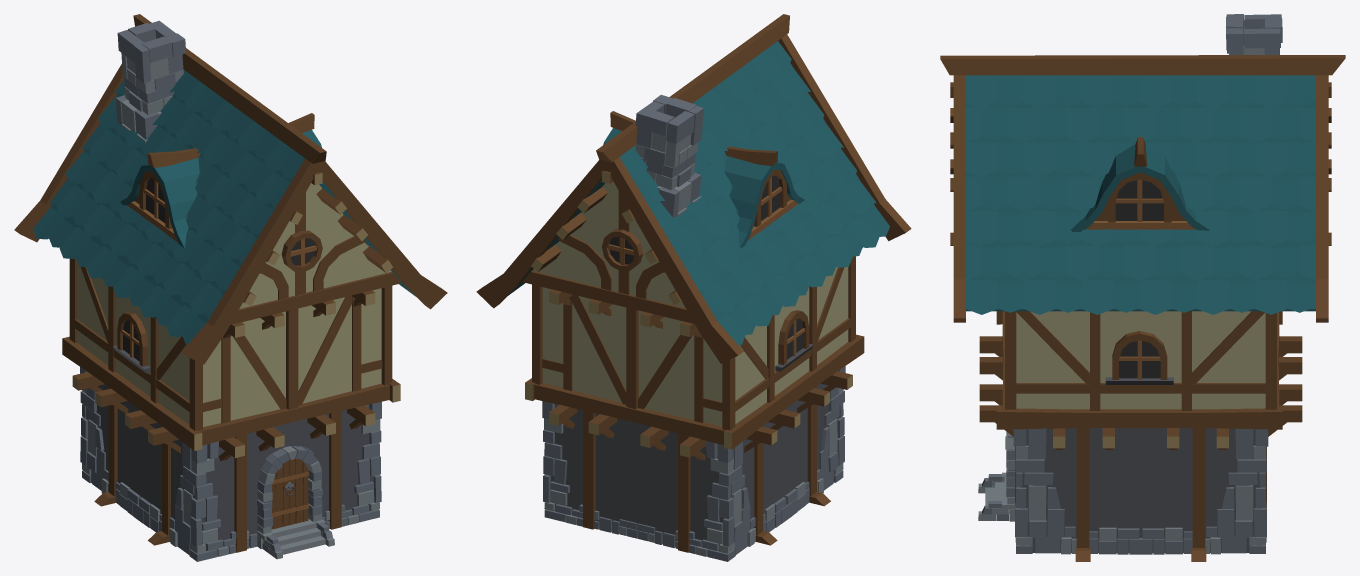
File: House_1.gltf
The picture shows the model from 3 angles, left to right: view 1: azimuth 30°, elevation 25°; view 2: azimuth 150°, elevation 25°; view 3: azimuth 270°, elevation 25°; orthographic projection. The views are drawn at different scales.
Parts seen in each view (by area): view 1: House_1_Cube.145; view 2: House_1_Cube.145; view 3: House_1_Cube.145.
Part boxes in pixels (box(x1,y1,x2,y2)): House_1_Cube.145: box(14, 14, 447, 561); House_1_Cube.145: box(476, 14, 911, 561); House_1_Cube.145: box(940, 14, 1345, 561).
Size of the model in its own units: 2.14 by 3.39 by 2.66.
